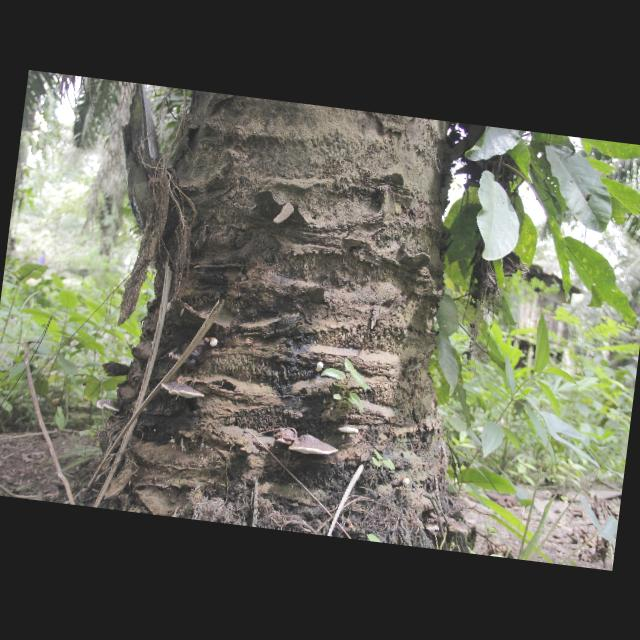ganoderma: (171, 334, 210, 371), (288, 433, 340, 459), (160, 381, 207, 402), (443, 519, 470, 536), (274, 429, 297, 447), (97, 400, 122, 415), (337, 425, 359, 436), (425, 519, 442, 533)
primordium: (315, 362, 325, 373), (400, 478, 411, 488), (210, 338, 220, 348), (167, 303, 173, 314), (168, 354, 173, 359)
